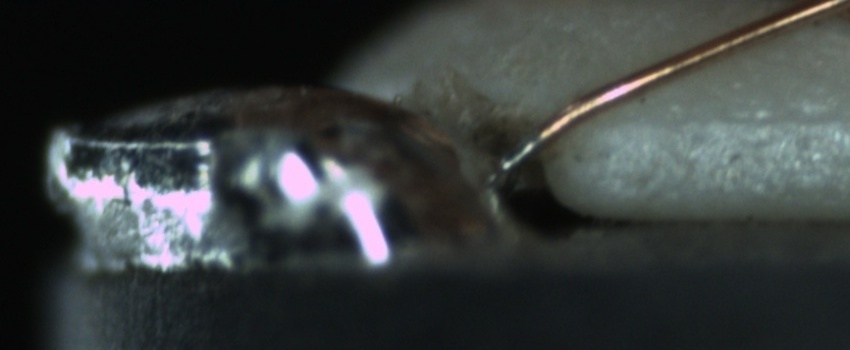CL: (769, 1, 850, 31)
DL: (622, 87, 849, 155)
TS: (499, 131, 543, 172)
